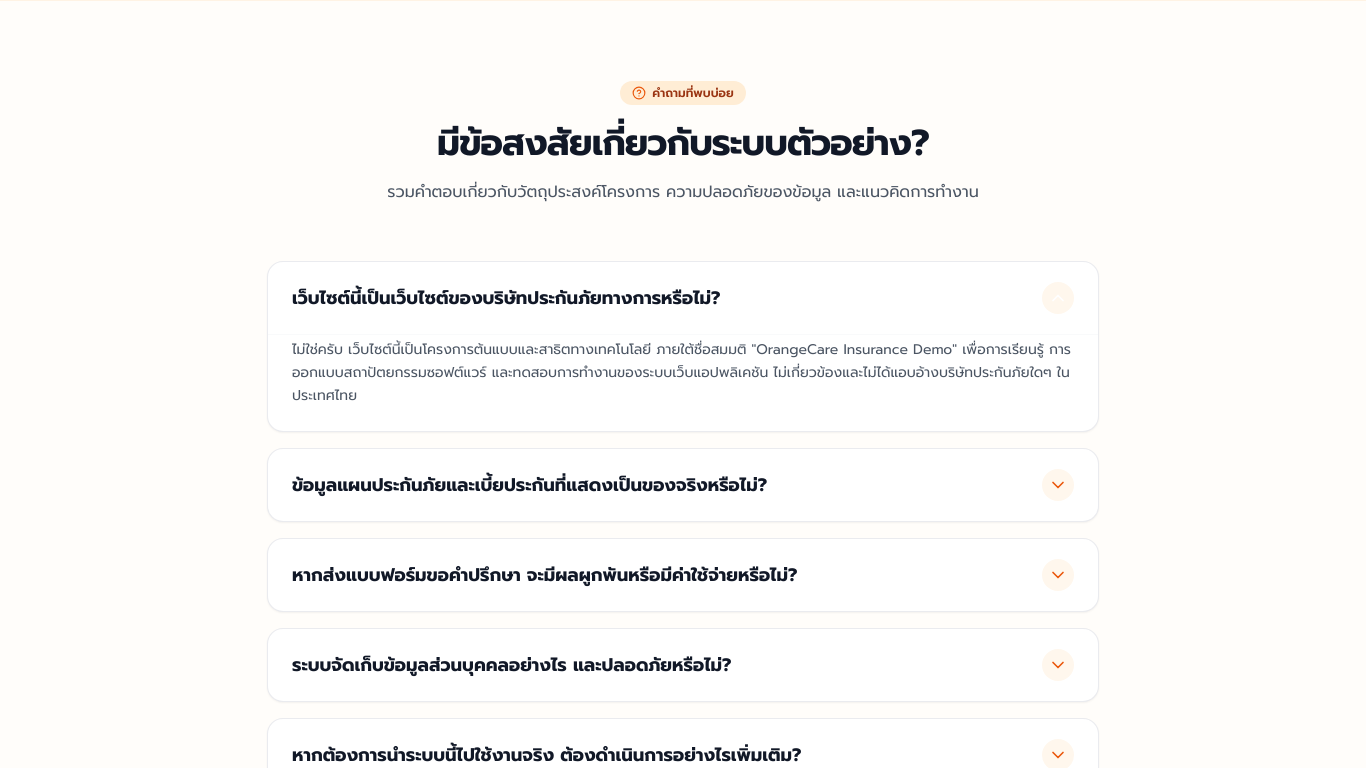
Test: Frontend Component Tests › FAQSection toggles accordion item
Expected: the text "OrangeCare Insurance Demo" is shown, [292,339,1071,406]
Expected: the text "ข้อมูลแผนประกันภัยและเบี้ยประกันที่แสดงเป็นของจริงหรือไม่?" is shown, [292,471,767,499]
Click second question to expand it
Click the button "ข้อมูลแผนประกันภัยและเบี้ยประกันที่แสดงเป็นของจริงหรือไม่?" at (683, 485), box [268,449,1098,521]
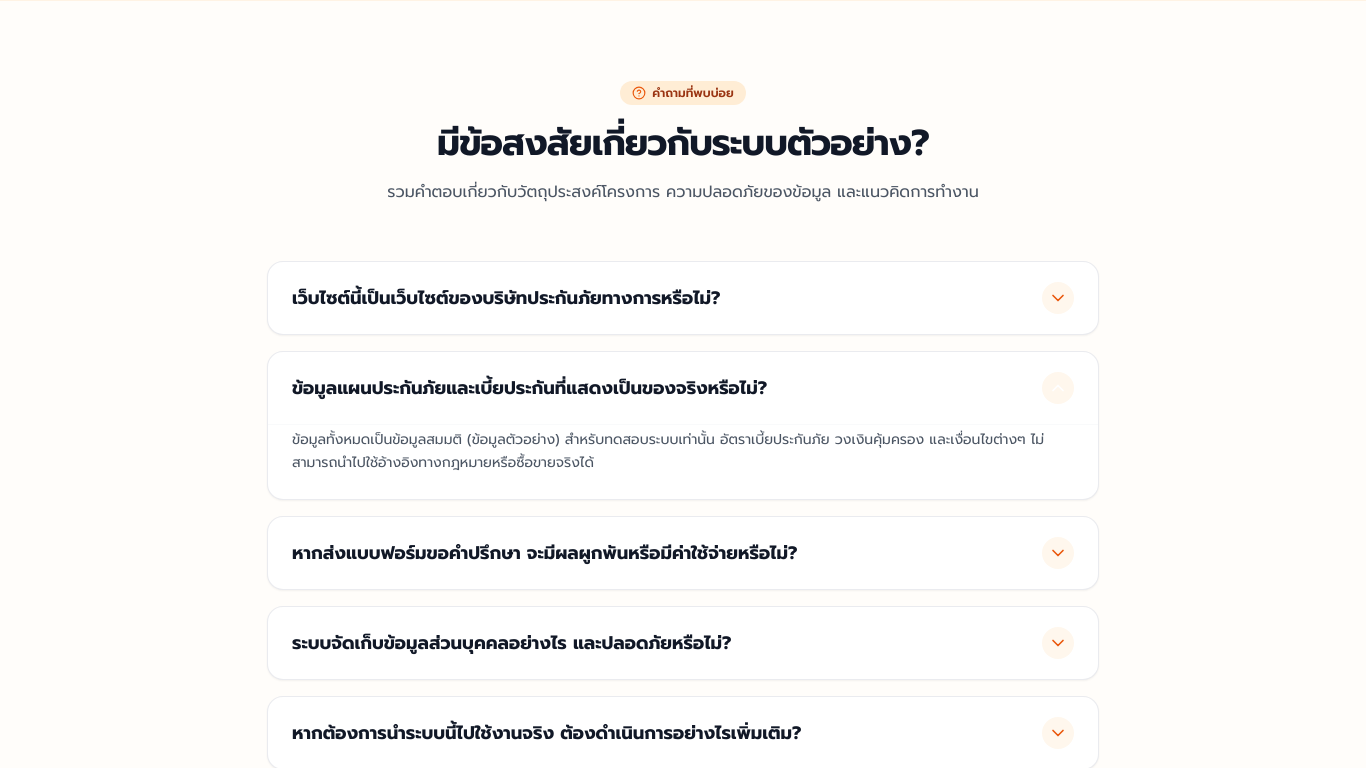
Now the text "ข้อมูลทั้งหมดเป็นข้อมูลสมมติ (ข้อมูลตัวอย่าง)" is shown, box [292,429,1044,473]
